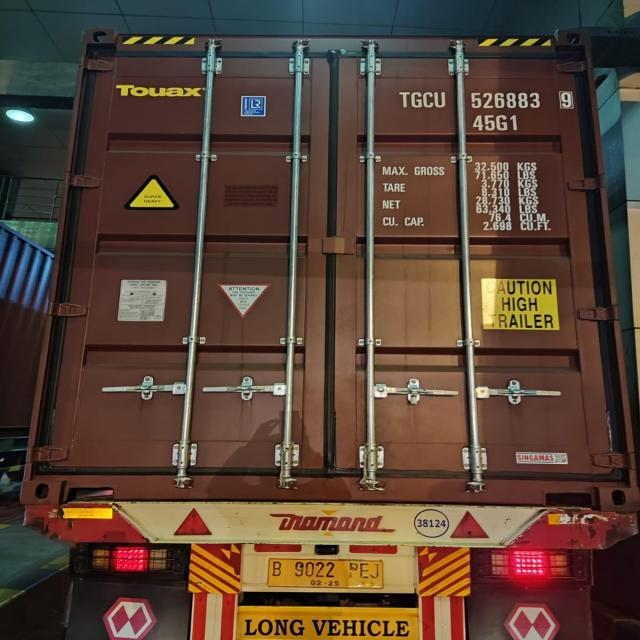seal: (408, 380, 419, 406)
